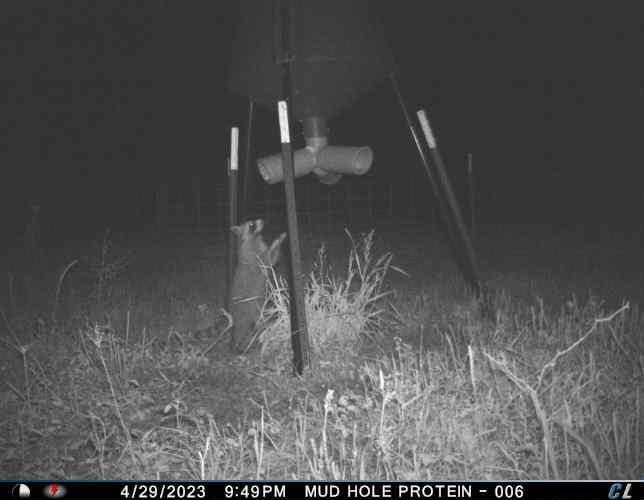Raccoon: (222, 215, 289, 360)
